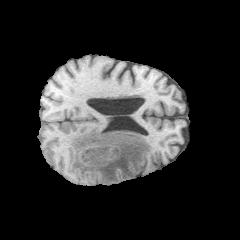glioma: (69, 125, 151, 182)
